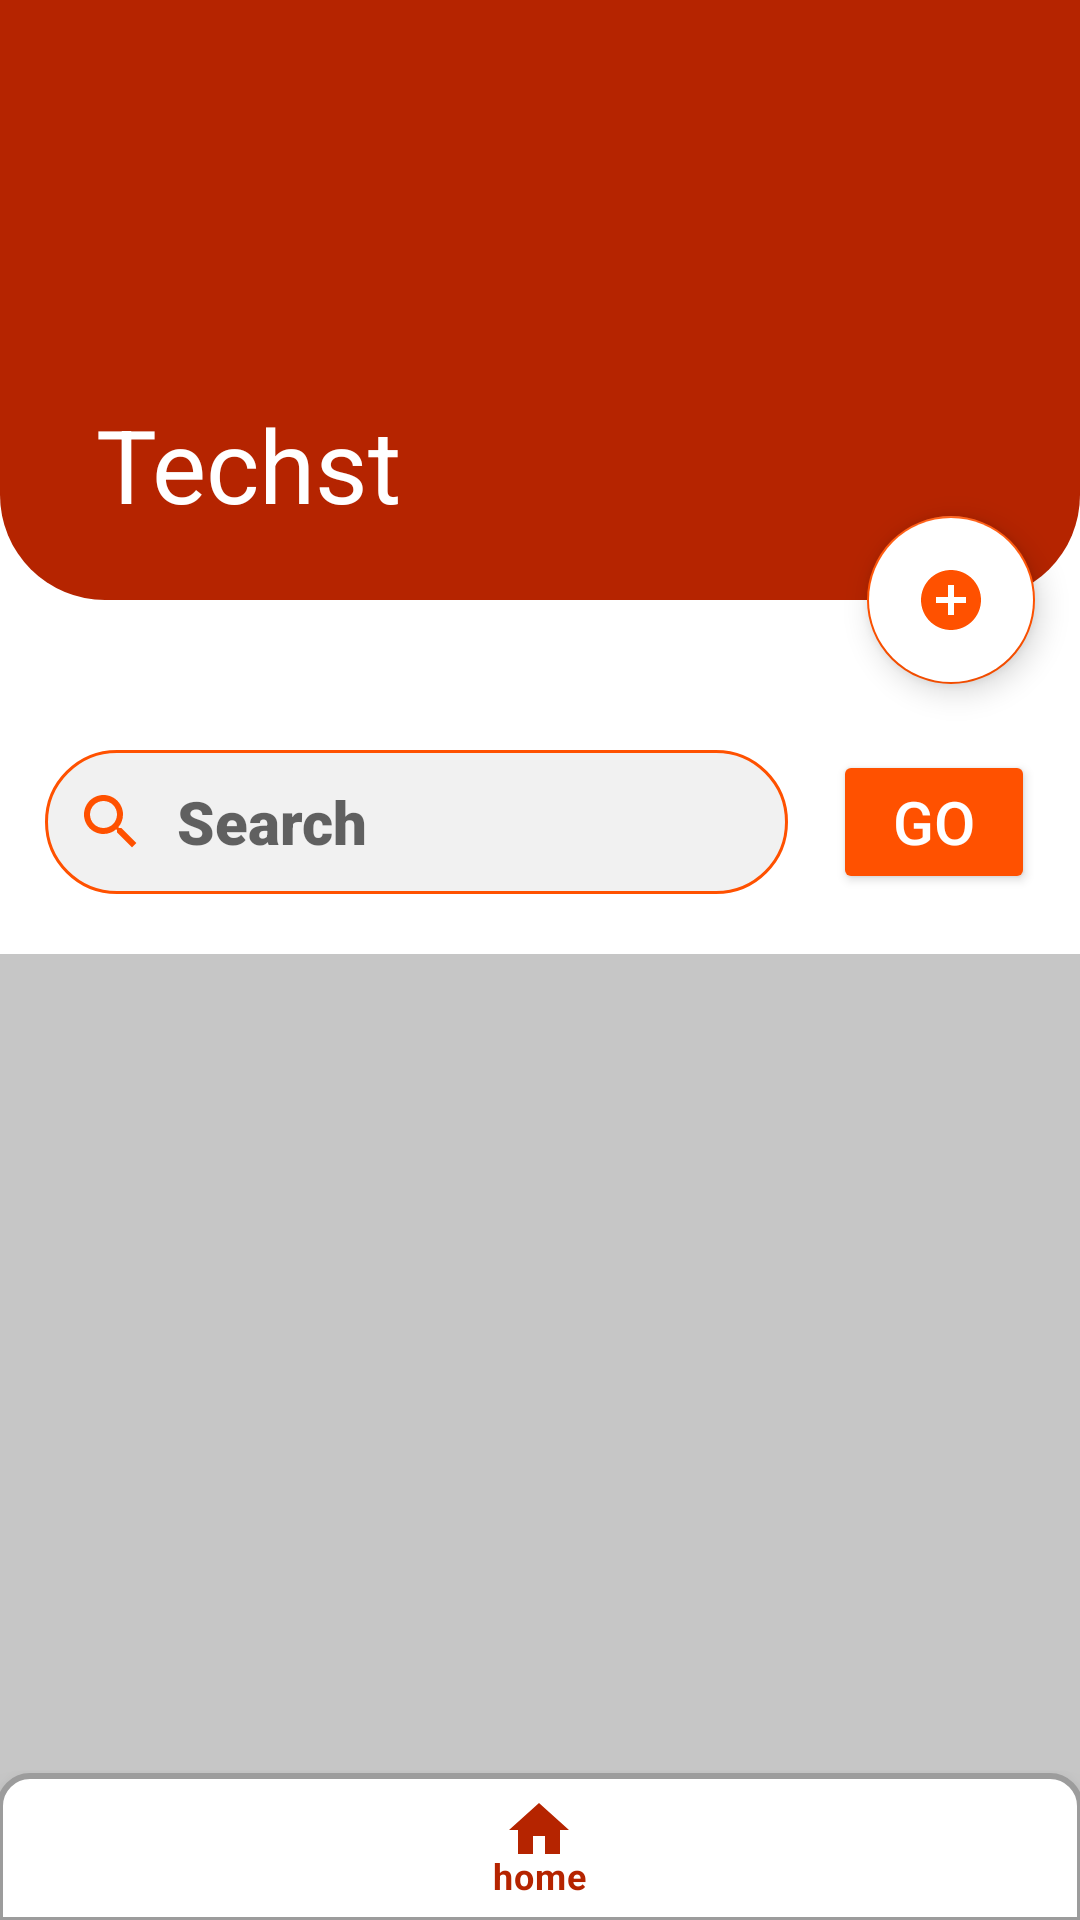

Icons on this 1080px×1920px Android screen, each with the point to tap as (x=x, y=y):
add circle: (x=951, y=600)
